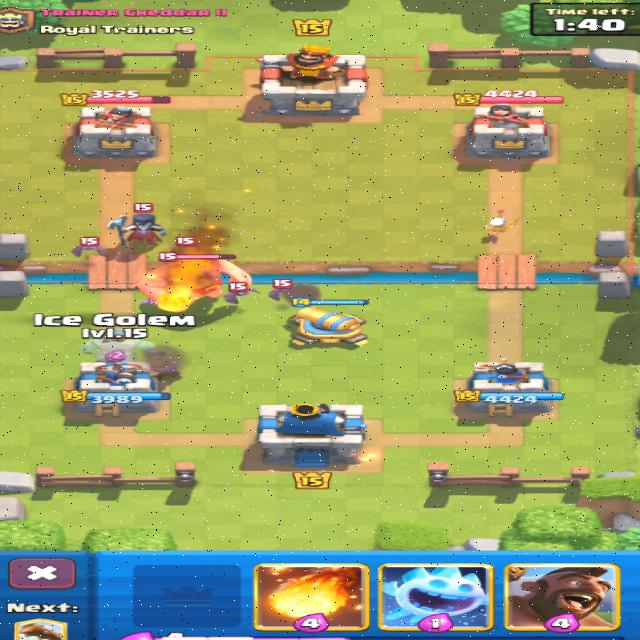Enemy-Bat: (224, 283, 258, 304), (72, 237, 105, 256), (268, 281, 289, 299)
Enemy-Giant: (137, 258, 251, 311)
Enemy-KingTower: (259, 44, 366, 115)
Enemy-NightWitch: (108, 213, 166, 247)
Enemy-PrincessTower: (463, 103, 550, 163), (72, 106, 157, 161)
Player-Cannon: (291, 307, 365, 345)
Player-KingTower: (258, 403, 365, 466)
Player-Musketeer: (150, 356, 181, 381)
Player-PrincessTower: (455, 359, 562, 416), (61, 361, 170, 416)
Player-Skeleton: (485, 217, 517, 235)
